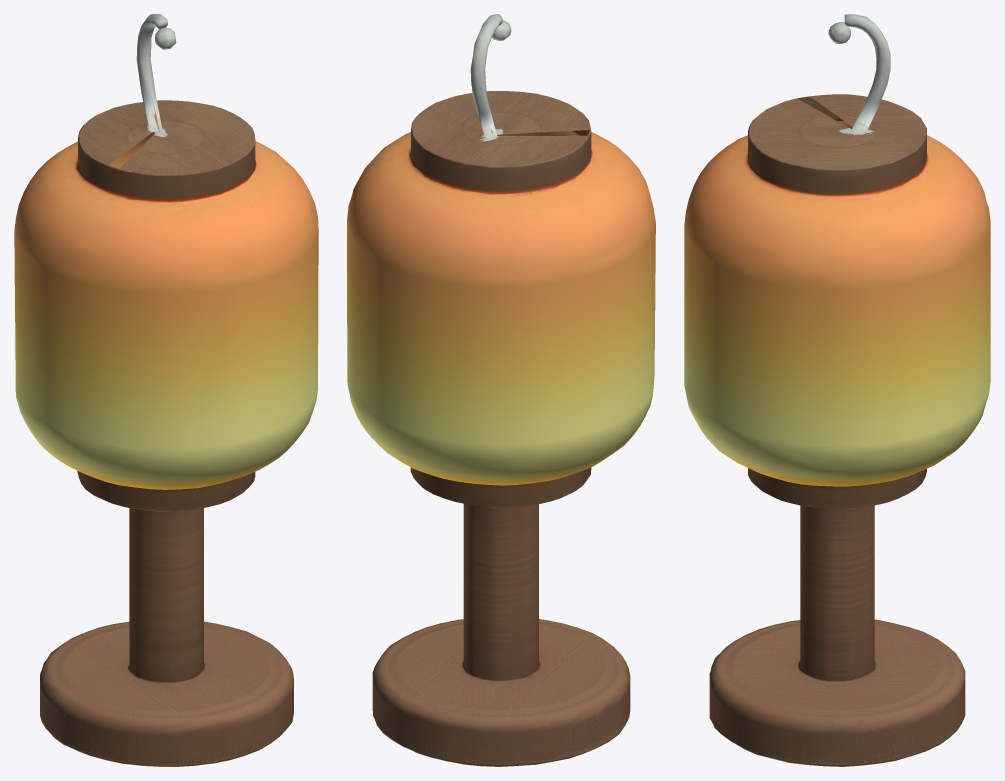
The model's file is lantern.glb.
The picture shows the model from 3 angles, left to right: view 1: azimuth 30°, elevation 25°; view 2: azimuth 150°, elevation 25°; view 3: azimuth 270°, elevation 25°; orthographic projection.
Bounding box in the file's own units: 0.7554 × 1.91 × 0.7554.
1 material, 1 textured.
